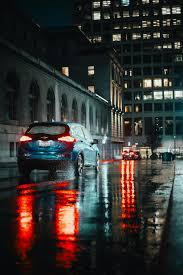car: (20, 120, 102, 179)
